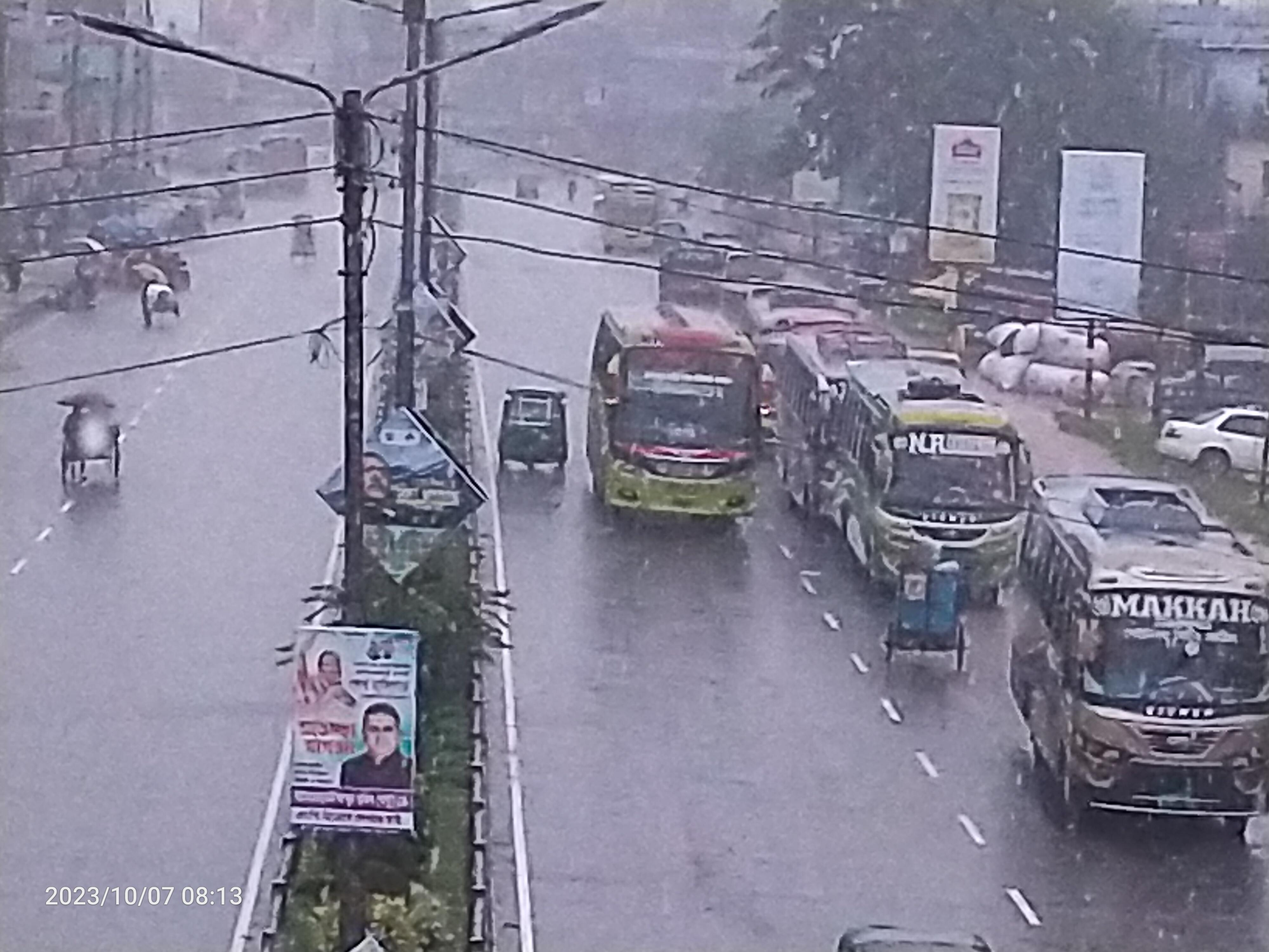Bike: (556, 164, 592, 205)
Bus: (1002, 448, 1269, 894), (820, 325, 1038, 630), (571, 284, 784, 556), (773, 315, 840, 533), (588, 155, 675, 258)
Car: (45, 376, 149, 511), (1147, 379, 1269, 493), (10, 231, 119, 290), (278, 199, 334, 276)
